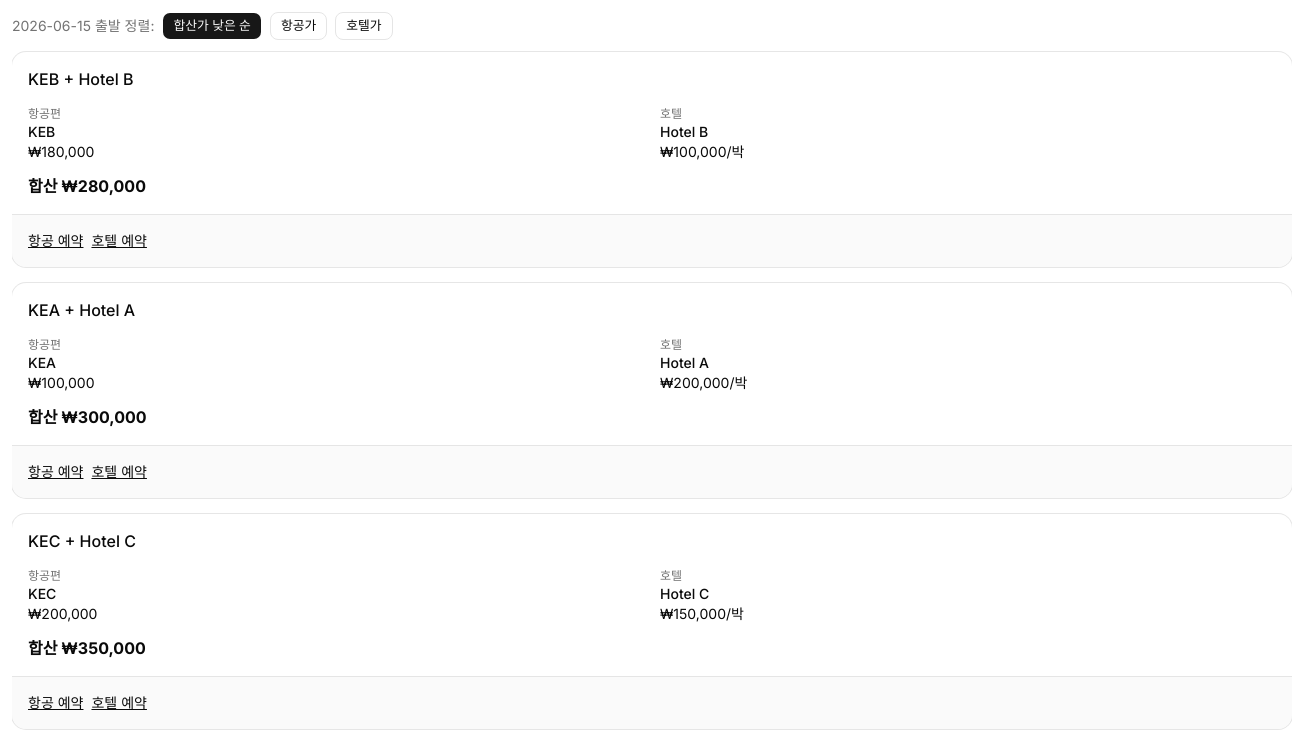
Test: ComboList › sorts by flight price when '항공가' is clicked
Click the button "항공가" at (299,26), box [270,12,327,40]
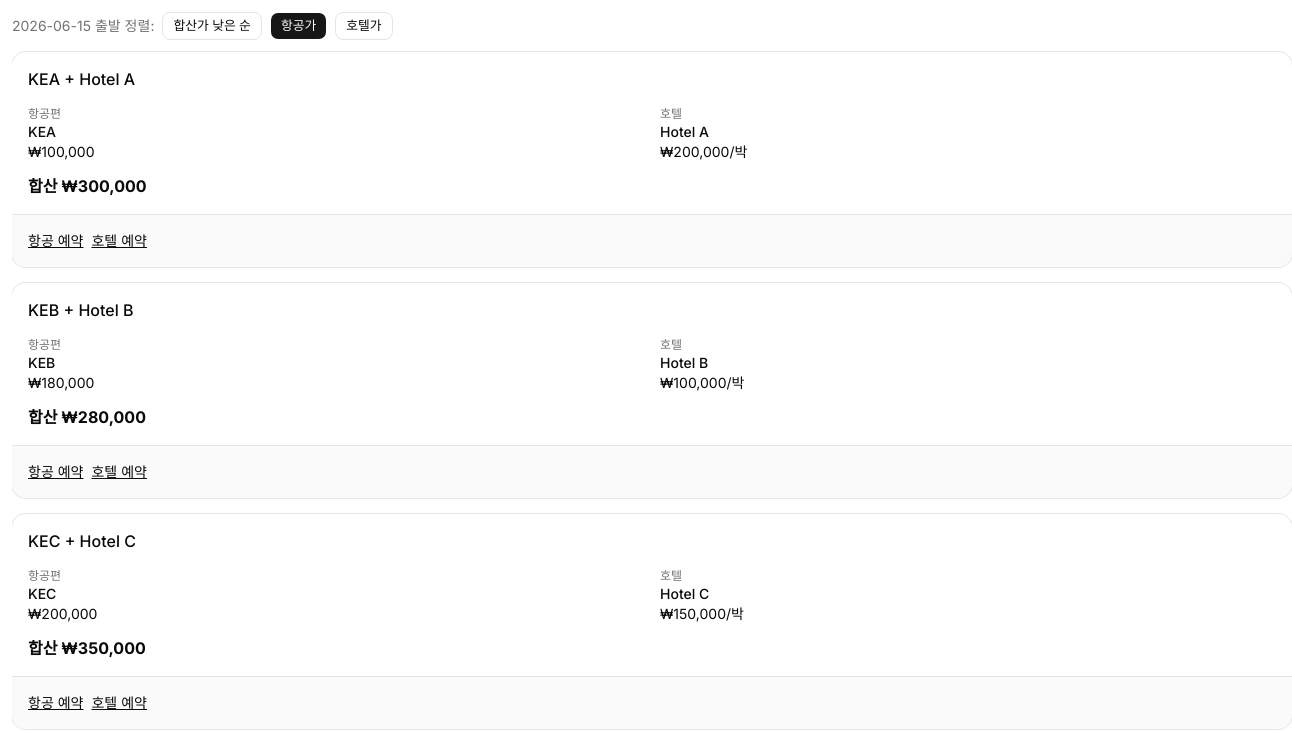
Expected: the element that starts with "KEC" is shown, [28,531,60,551]
Expected: the element that starts with "KEA" is shown, [28,69,60,89]
Expected: the element that starts with "KEB" is shown, [28,300,59,320]
